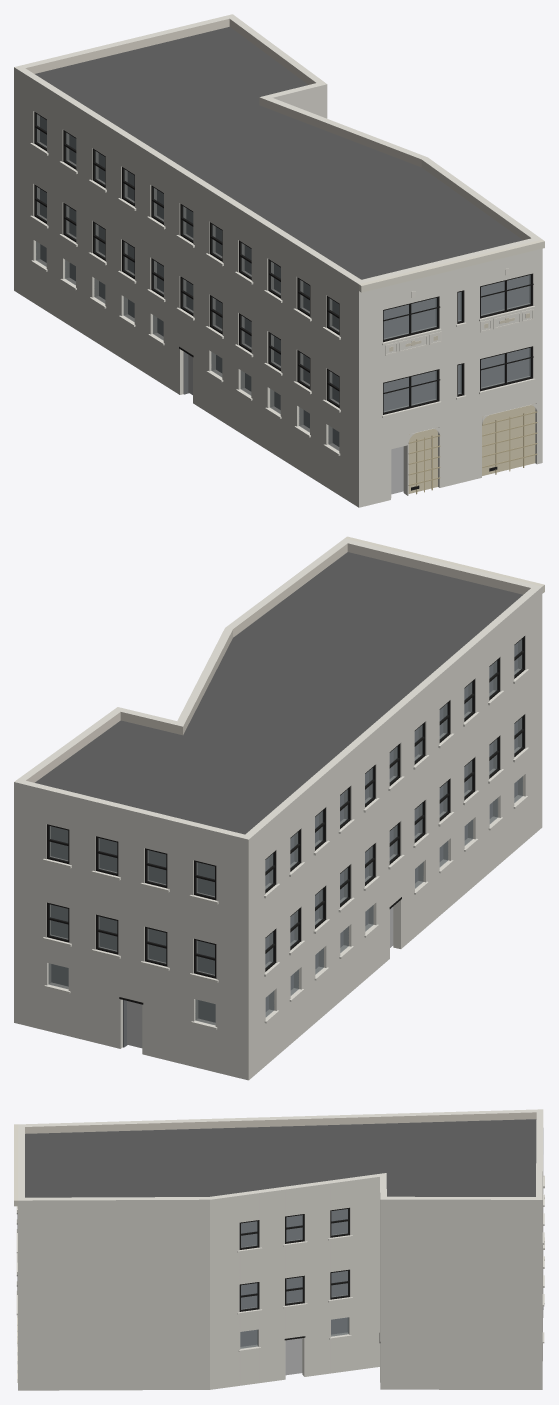
The model's file is exterior.glb.
The picture shows the model from 3 angles, top to bottom: view 1: azimuth 30°, elevation 25°; view 2: azimuth 150°, elevation 25°; view 3: azimuth 270°, elevation 25°; orthographic projection. The views are drawn at different scales.
Parts seen in each view (by area): view 1: shell, roof, glazing, shadow-proxy, frames, storefront, relief-5, trim; view 2: shell, roof, glazing, shadow-proxy, frames, trim, relief-5; view 3: shell, roof, shadow-proxy, glazing, frames, trim, relief-5.
Part boxes in pixels (<box>): shell: <box>14,14,542,507</box>; roof: <box>35,26,522,279</box>; glazing: <box>36,114,530,450</box>; shadow-proxy: <box>40,116,528,494</box>; frames: <box>34,112,532,414</box>; storefront: <box>179,346,535,497</box>; relief-5: <box>359,239,544,494</box>; trim: <box>30,143,535,455</box>; shell: <box>14,538,542,1080</box>; roof: <box>35,552,522,834</box>; glazing: <box>48,639,522,1025</box>; shadow-proxy: <box>51,643,517,1048</box>; frames: <box>47,636,524,978</box>; trim: <box>43,669,528,1029</box>; relief-5: <box>345,536,544,593</box>; shell: <box>18,1109,543,1390</box>; roof: <box>25,1119,536,1197</box>; shadow-proxy: <box>240,1209,347,1375</box>; glazing: <box>240,1209,348,1348</box>; frames: <box>239,1207,349,1311</box>; trim: <box>16,1175,544,1351</box>; relief-5: <box>14,1124,18,1382</box>.
Size of the model in its own units: 10.91 by 10.6 by 26.83.
